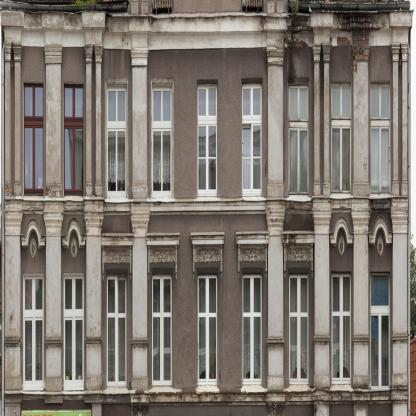Building Outline: (0, 0, 414, 416)
Cornice: (190, 231, 225, 281), (146, 231, 180, 282), (236, 231, 270, 281), (281, 231, 315, 281), (101, 232, 134, 282), (20, 217, 46, 250), (61, 217, 87, 249), (368, 215, 393, 247), (329, 215, 354, 247)
Deco: (150, 248, 175, 263), (195, 247, 220, 262), (104, 249, 130, 263), (240, 247, 265, 261), (286, 247, 311, 261)
Floor: (5, 212, 411, 403)
Floor Slab: (5, 403, 410, 416), (5, 199, 410, 212)
Pillar: (129, 210, 151, 392), (83, 210, 105, 392), (43, 210, 64, 392), (265, 208, 285, 391), (312, 207, 332, 389), (351, 208, 371, 390), (4, 209, 23, 390), (390, 206, 408, 388), (44, 44, 63, 198), (352, 44, 371, 196), (130, 48, 149, 200), (266, 46, 285, 197), (12, 42, 23, 196), (390, 43, 401, 196), (84, 43, 94, 197), (94, 44, 103, 198), (312, 43, 321, 196), (322, 43, 331, 196), (4, 42, 12, 196), (400, 42, 408, 196)
Top Floor: (5, 12, 411, 211)
Window: (23, 81, 44, 196), (63, 81, 84, 196), (371, 272, 391, 391), (332, 272, 352, 391), (24, 274, 44, 391), (64, 274, 84, 391), (242, 84, 262, 198), (107, 273, 127, 387), (107, 85, 127, 198), (152, 85, 172, 198), (198, 85, 218, 198), (331, 81, 351, 193), (289, 274, 309, 385), (242, 274, 262, 385), (152, 274, 172, 385), (371, 81, 390, 194), (289, 84, 308, 196), (198, 274, 217, 385)
